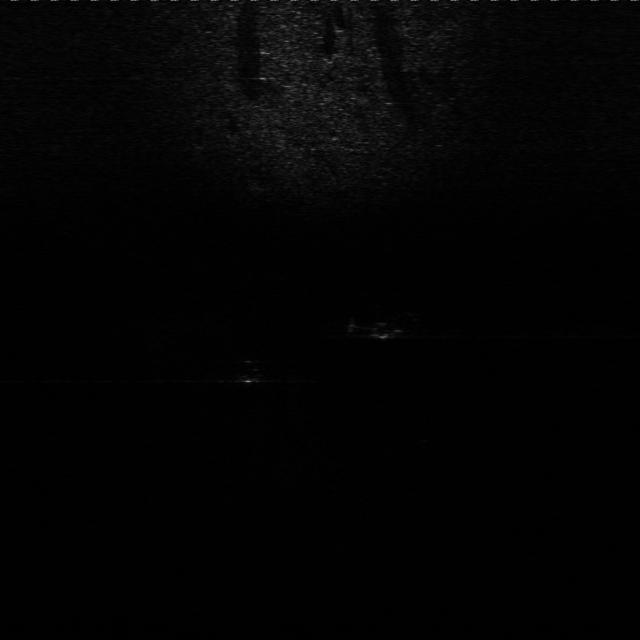ball: (227, 356, 268, 386)
human body: (340, 310, 414, 342)
